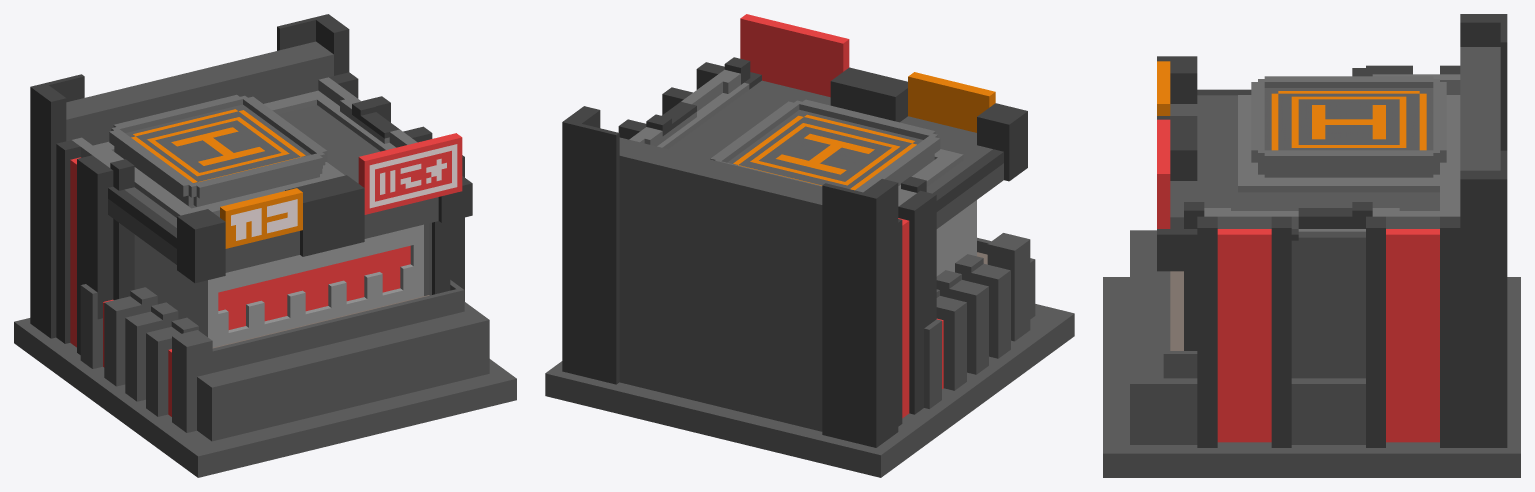
File: _g_mainbuilding.obj
3 renders of one model, left to right at view 1: azimuth 30°, elevation 25°; view 2: azimuth 150°, elevation 25°; view 3: azimuth 270°, elevation 25°, orthographic. The views are drawn at different scales.
Bounding box in the file's own units: 6.2 × 4.8 × 6.2.
